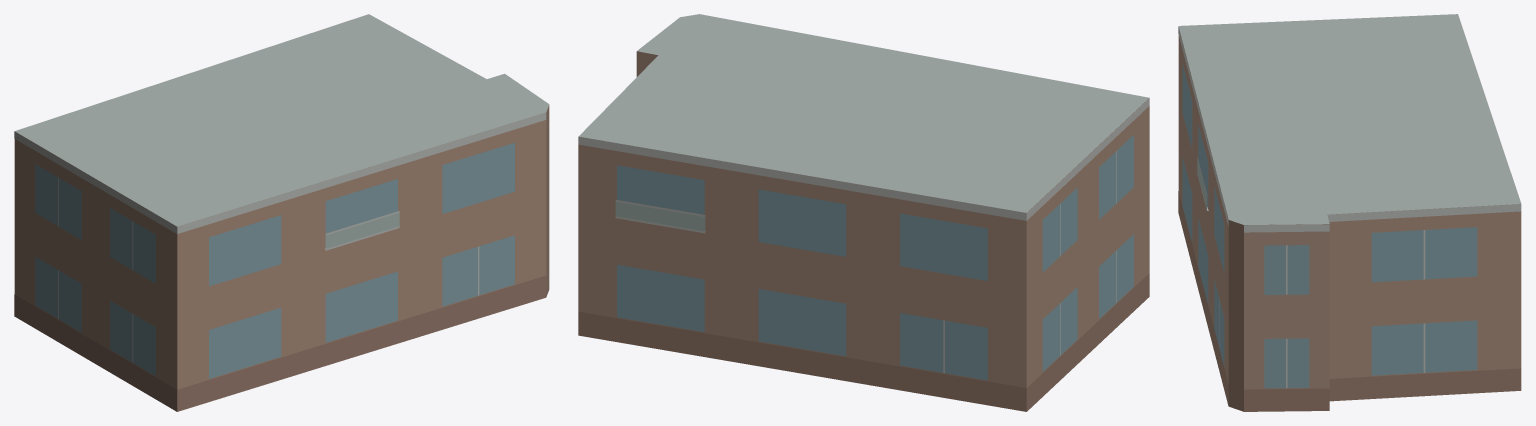
The model's file is survey-upis-32750400.glb.
The picture shows the model from 3 angles, left to right: view 1: azimuth 30°, elevation 25°; view 2: azimuth 150°, elevation 25°; view 3: azimuth 270°, elevation 25°; orthographic projection. The views are drawn at different scales.
Visible parts, largest first — view 1: survey-upis-32750400.tmp; view 2: survey-upis-32750400.tmp; view 3: survey-upis-32750400.tmp.
Boxes of the visible parts, bbox=[...] form: survey-upis-32750400.tmp: bbox=[14, 14, 549, 411]; survey-upis-32750400.tmp: bbox=[578, 14, 1149, 411]; survey-upis-32750400.tmp: bbox=[1178, 14, 1521, 411].
Size of the model in its own units: 14.79 by 6.1 by 10.16.
